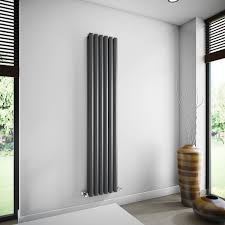Radiator: (84, 32, 121, 198)
